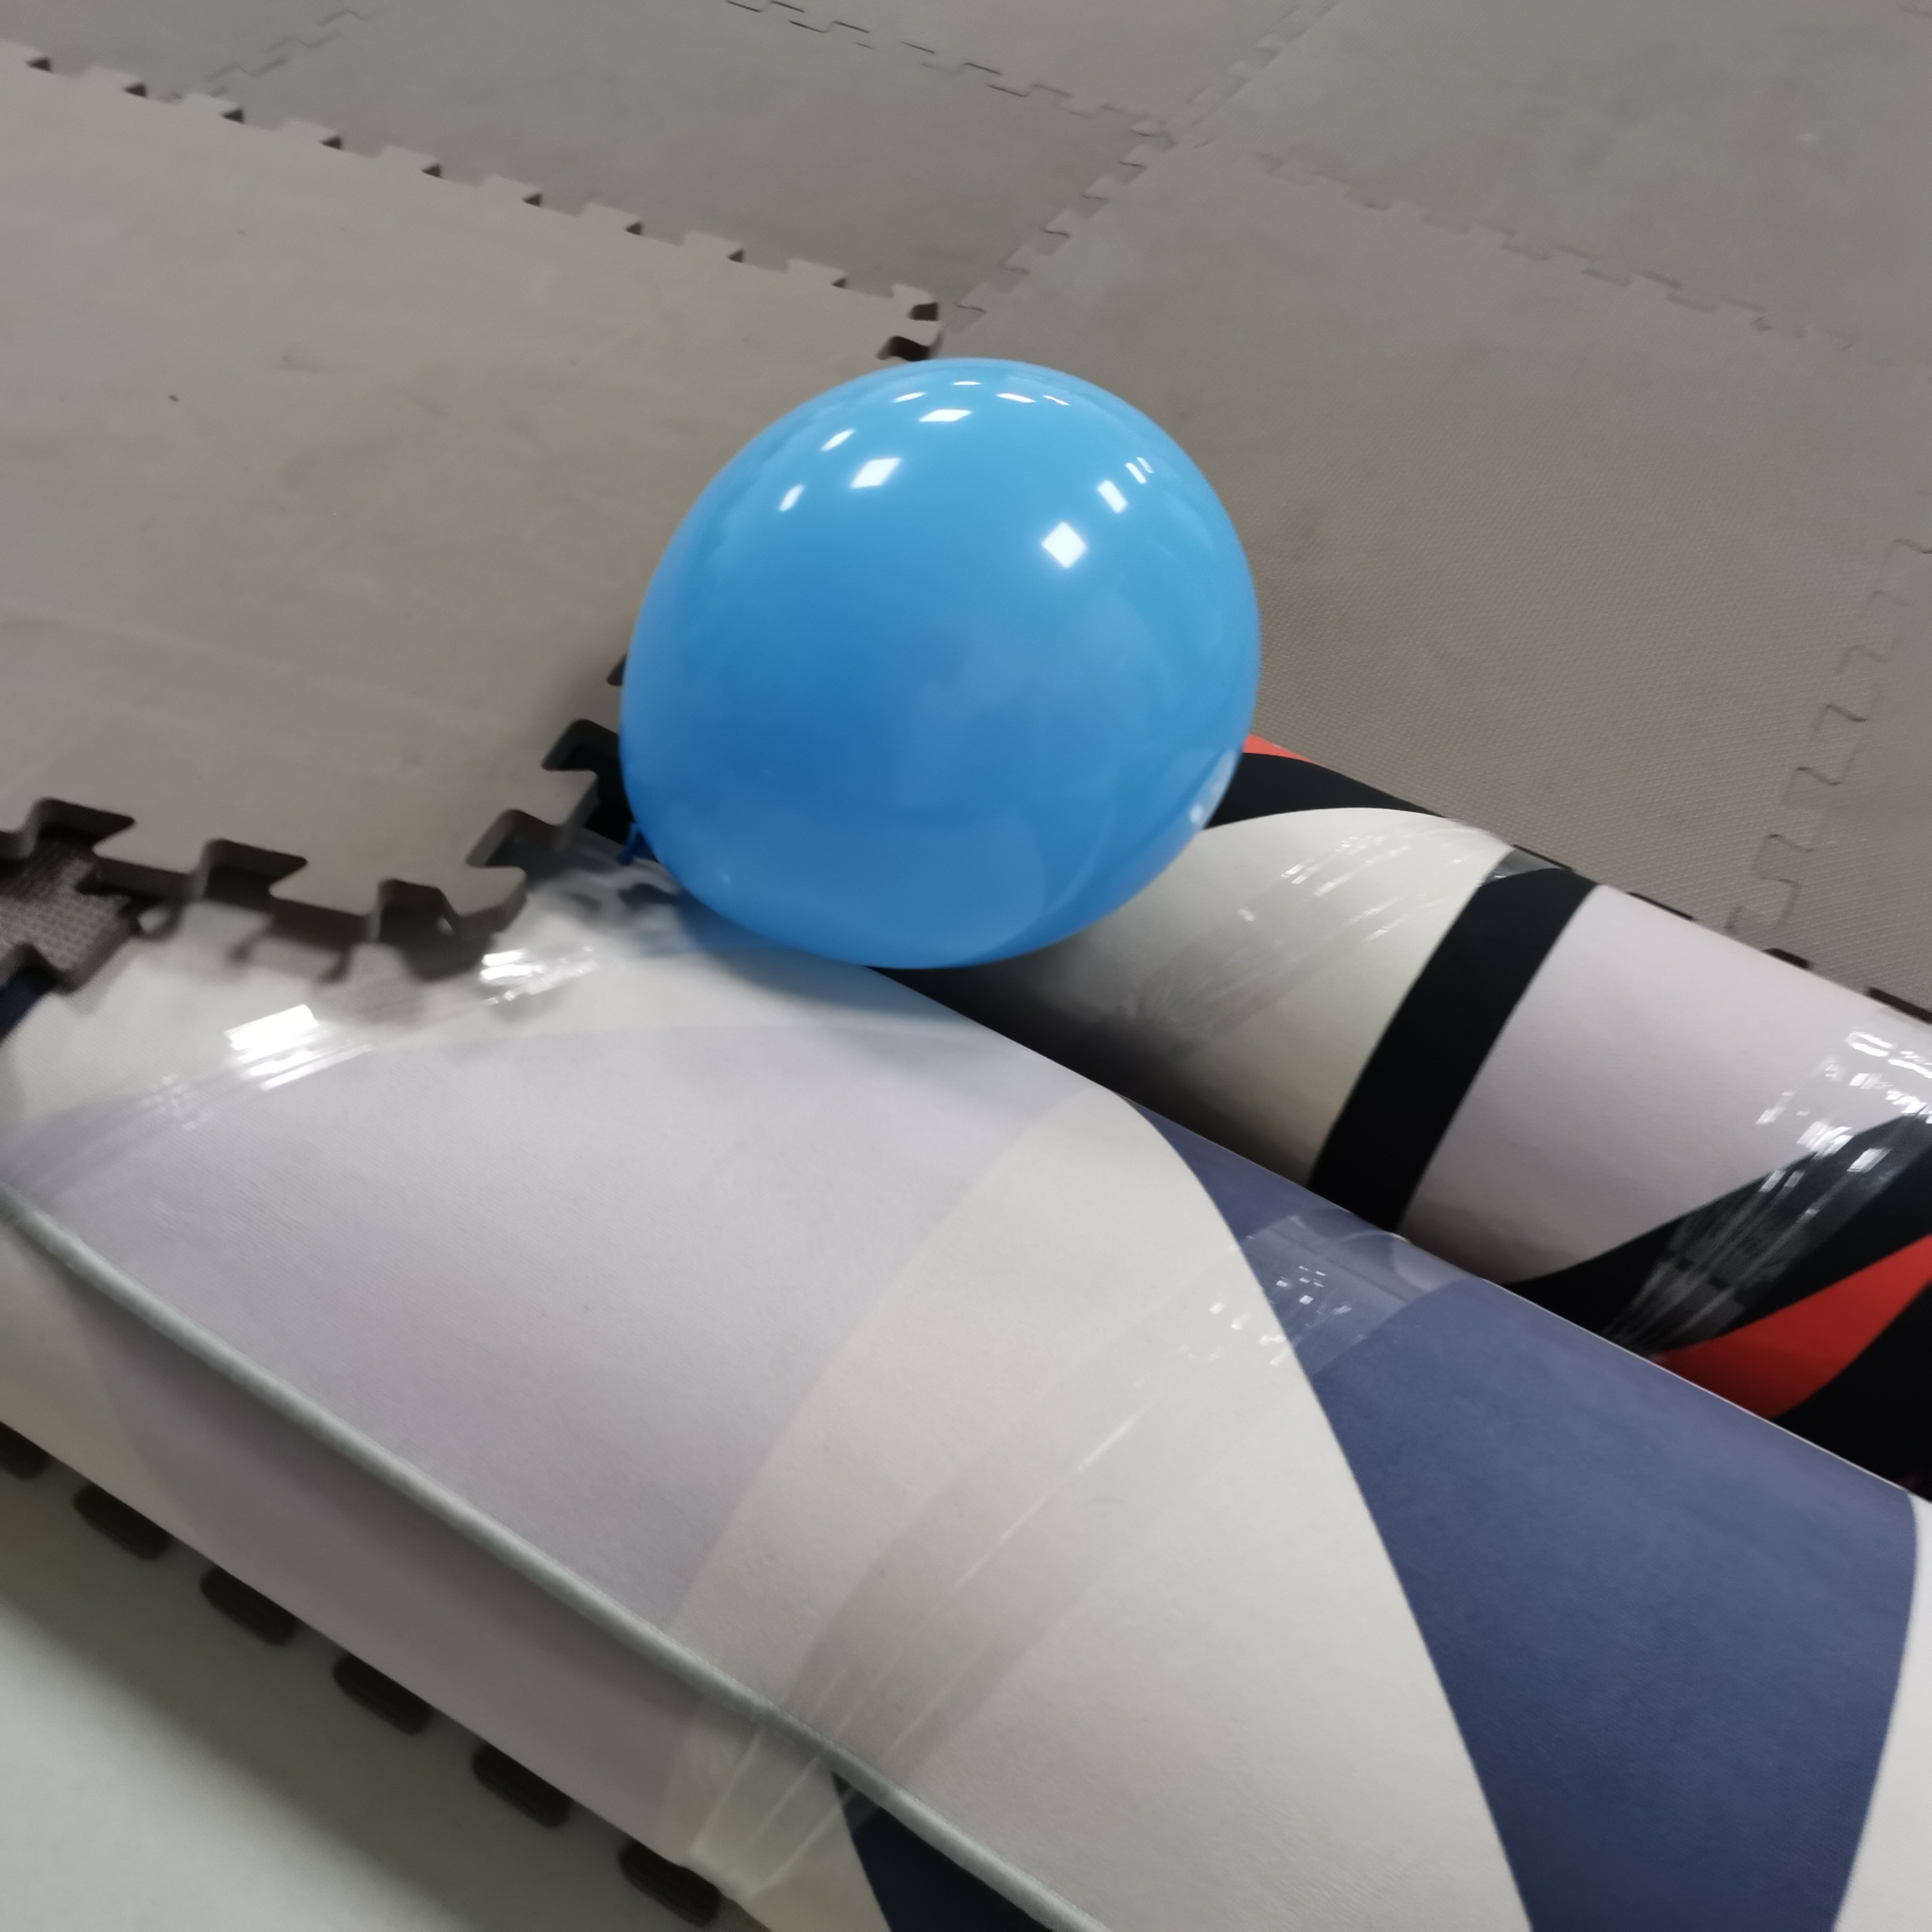balloon: (625, 361, 1265, 977)
